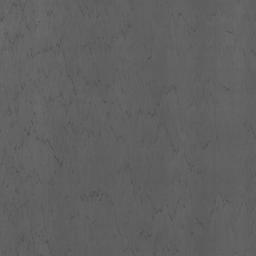Silk spot: (0, 0, 232, 256), (160, 2, 221, 60), (232, 15, 256, 90), (190, 72, 230, 106), (241, 168, 256, 237), (243, 122, 256, 139)
